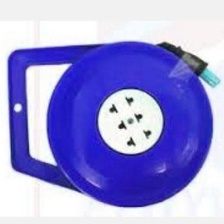three_eye_plug: (39, 38, 217, 212)
